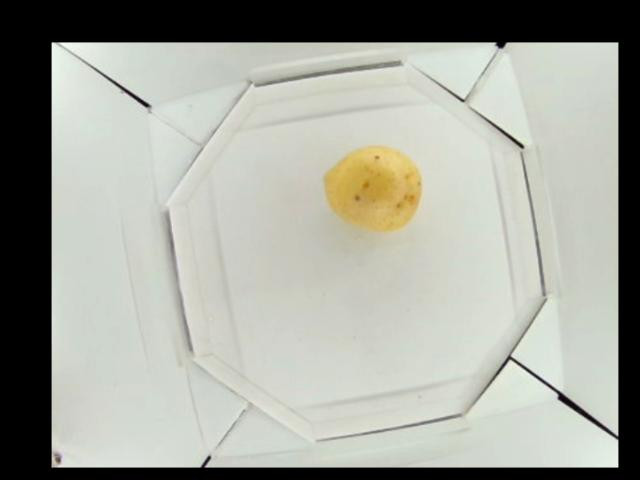Potato: (321, 146, 420, 231)
